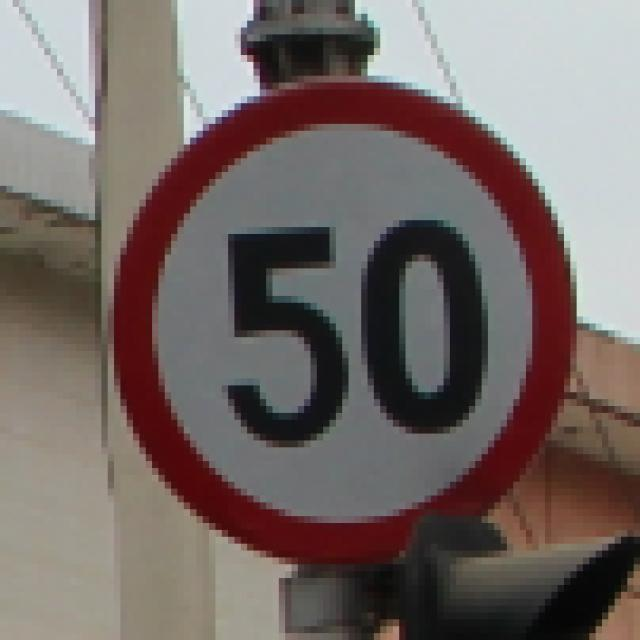Limite-50: (110, 77, 577, 569)
